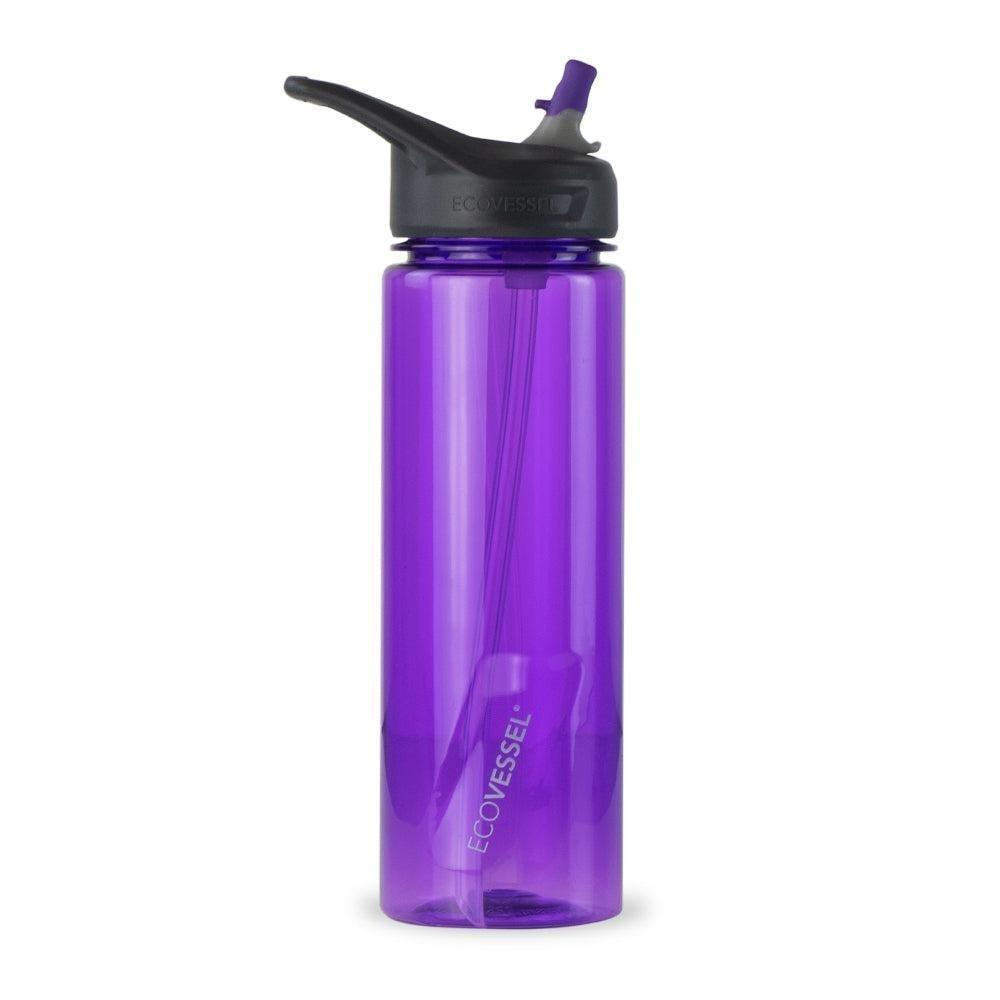gym bottle: (280, 57, 637, 940)
